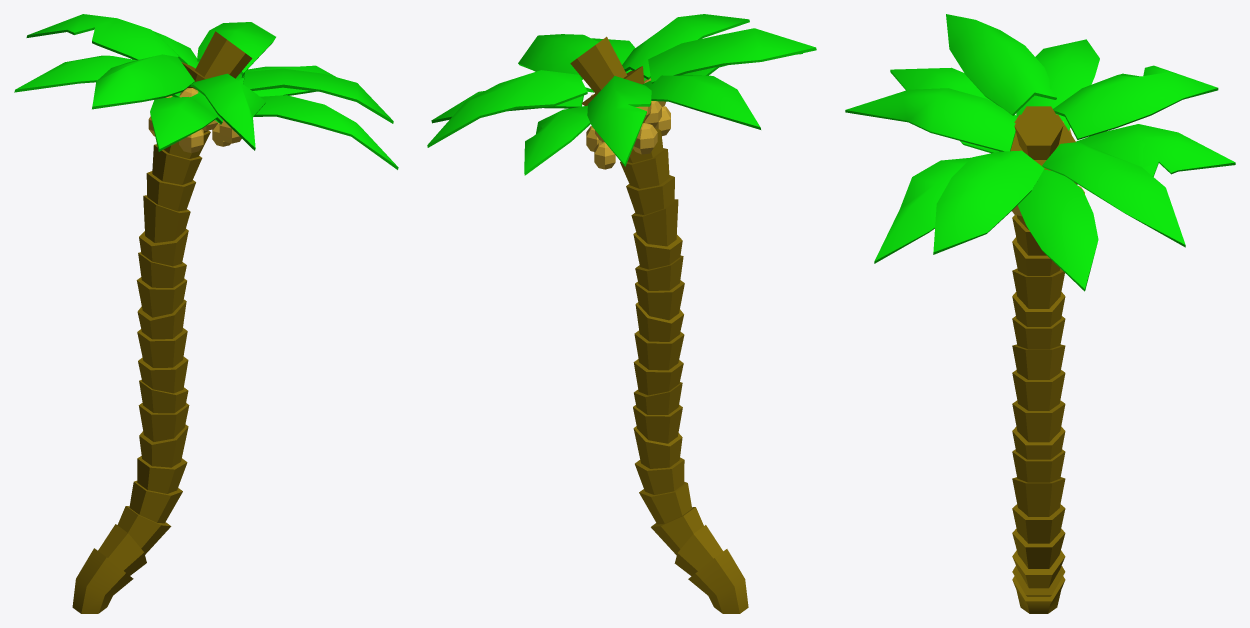
The model's file is palmier.fbx.
3 views of the same model, side by side, from view 1: azimuth 30°, elevation 25°; view 2: azimuth 150°, elevation 25°; view 3: azimuth 270°, elevation 25° (orthographic). The views are drawn at different scales.
Parts seen in each view (by area): view 1: polySurface48; view 2: polySurface48; view 3: polySurface48.
Boxes of the visible parts, x1,y1,x2,y2 form: polySurface48: (14,14,398,613); polySurface48: (427,14,816,613); polySurface48: (845,14,1235,613).
Size of the model in its own units: 15.24 by 24.5 by 14.67.
